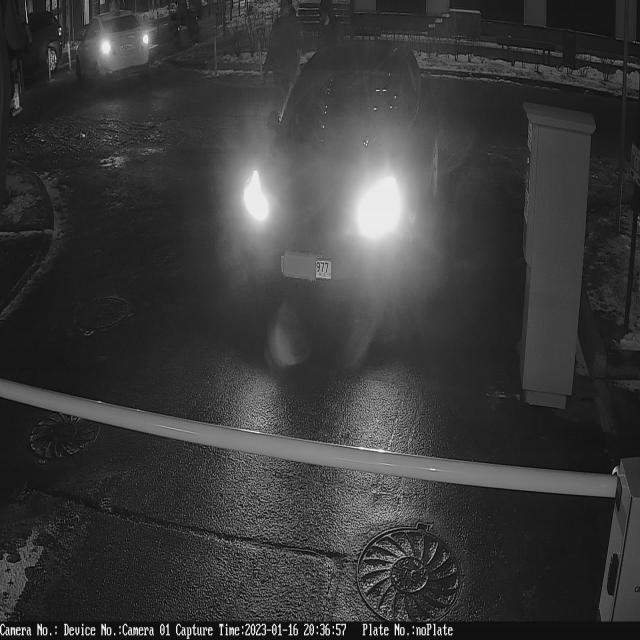car-plate-numbers: (279, 244, 336, 290)
